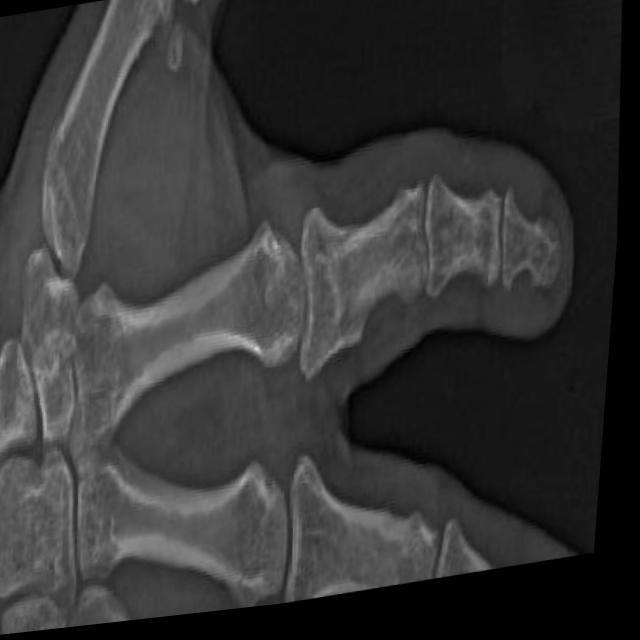fracture: (350, 258, 420, 371)
